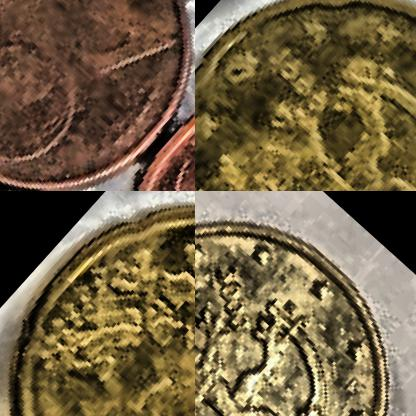coin: (195, 191, 415, 415), (0, 191, 194, 415), (195, 0, 415, 190), (0, 0, 194, 190)
